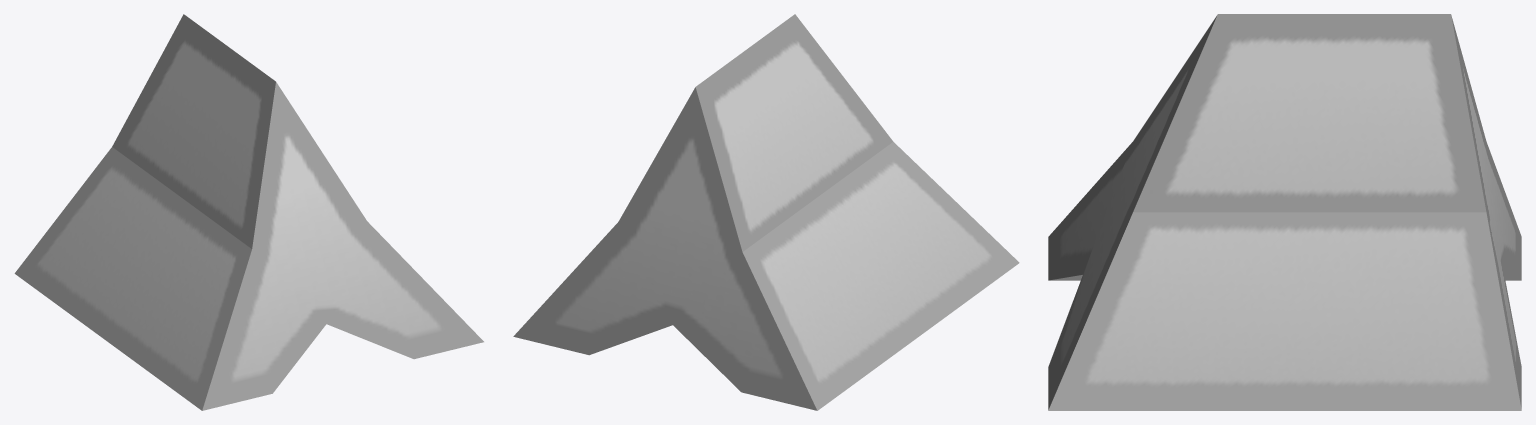
3 renders of one model, left to right at view 1: azimuth 30°, elevation 25°; view 2: azimuth 150°, elevation 25°; view 3: azimuth 270°, elevation 25°, orthographic. The views are drawn at different scales.
Parts seen in each view (by area): view 1: Corpo.001_Cube.003; view 2: Corpo.001_Cube.003; view 3: Corpo.001_Cube.003.
Part boxes in pixels (<box>): Corpo.001_Cube.003: <box>14,14,483,410</box>; Corpo.001_Cube.003: <box>513,14,1019,410</box>; Corpo.001_Cube.003: <box>1048,14,1521,410</box>.
Bounding box in the file's own units: 0.4534 × 0.377 × 0.522.
